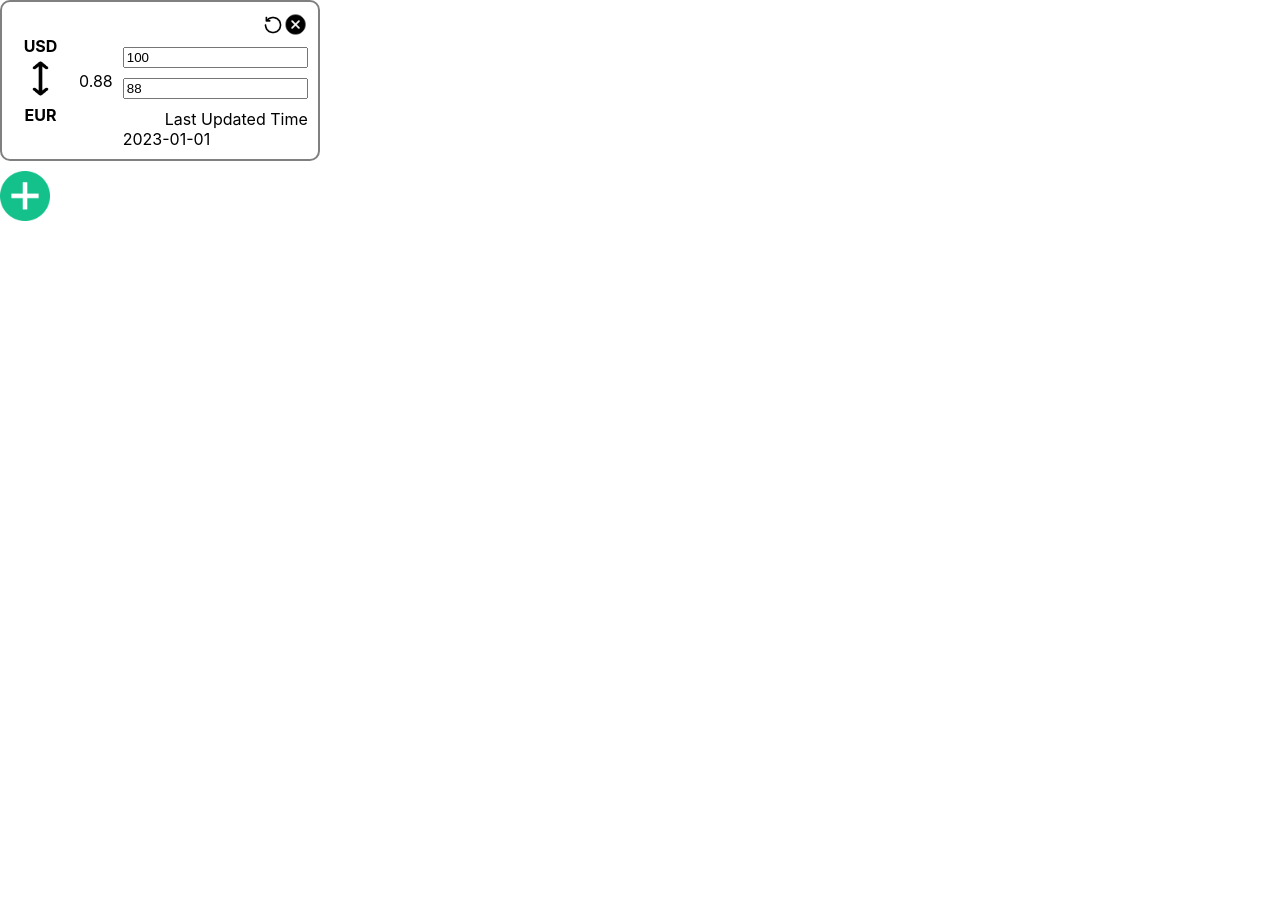
it: CurrencyConverter component › opens modal when add button is clicked
This screenshot has width=1280, height=900.
Click the picture with alt text "add button" at (25, 196), box [0, 171, 50, 221]
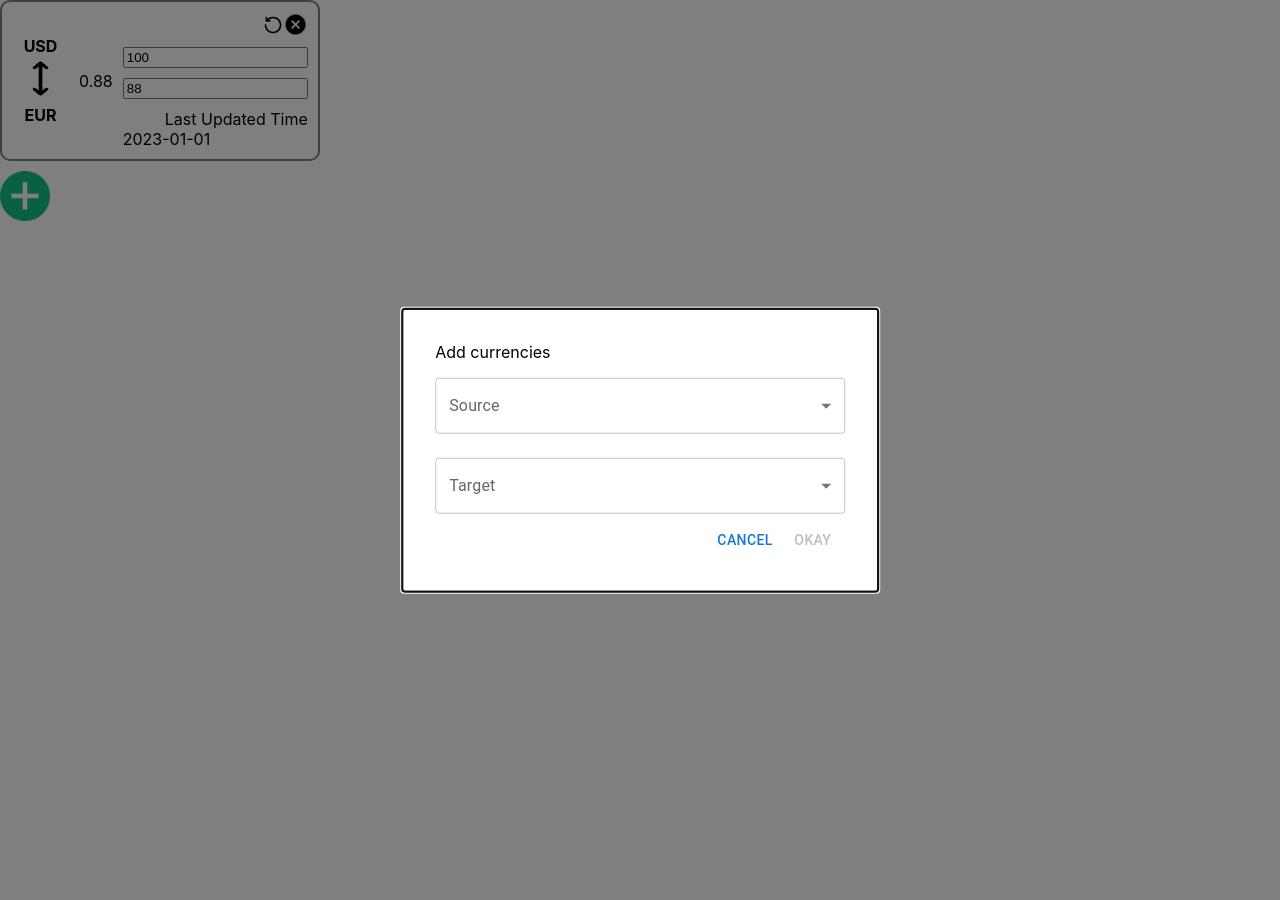
Now the text "Add currencies" is shown, box [435, 342, 550, 362]
